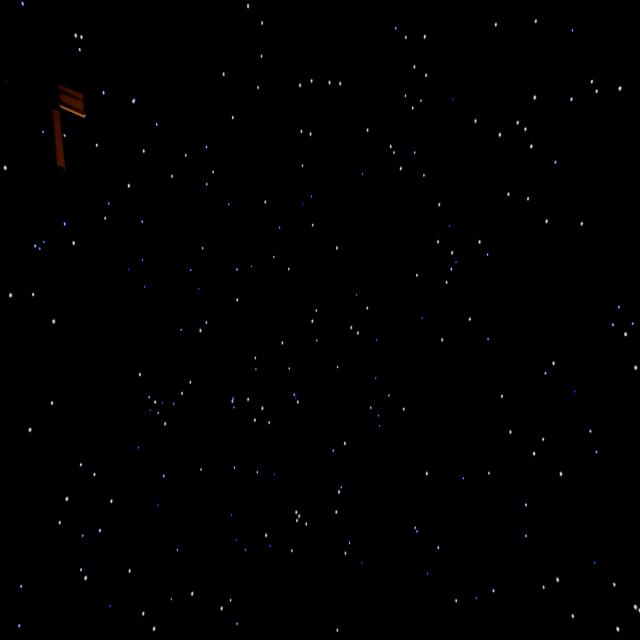medium_debris: (3, 71, 99, 168)
